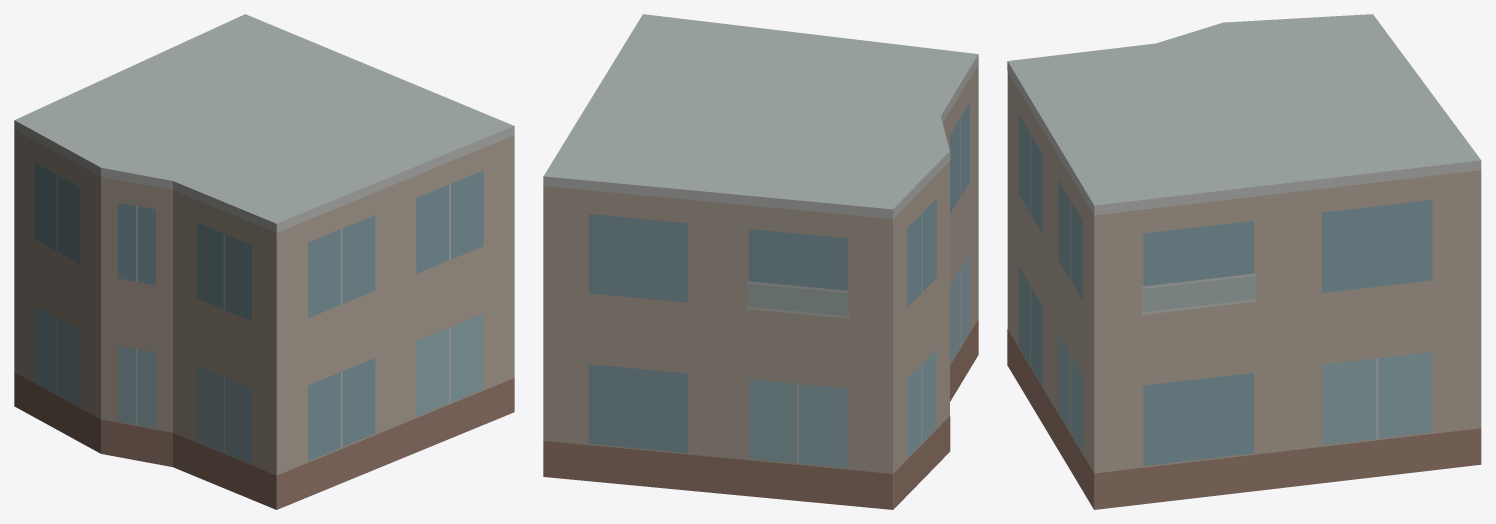
Rendered from survey-upis-32789962.glb.
The picture shows the model from 3 angles, left to right: view 1: azimuth 30°, elevation 25°; view 2: azimuth 150°, elevation 25°; view 3: azimuth 270°, elevation 25°; orthographic projection. The views are drawn at different scales.
Parts seen in each view (by area): view 1: survey-upis-32789962.tmp; view 2: survey-upis-32789962.tmp; view 3: survey-upis-32789962.tmp.
Boxes of the visible parts, box(x1,y1,x2,y2) form: survey-upis-32789962.tmp: box(14, 14, 514, 509); survey-upis-32789962.tmp: box(543, 14, 978, 509); survey-upis-32789962.tmp: box(1007, 14, 1481, 509).
Size of the model in its own units: 10.28 by 7.6 by 10.74.
